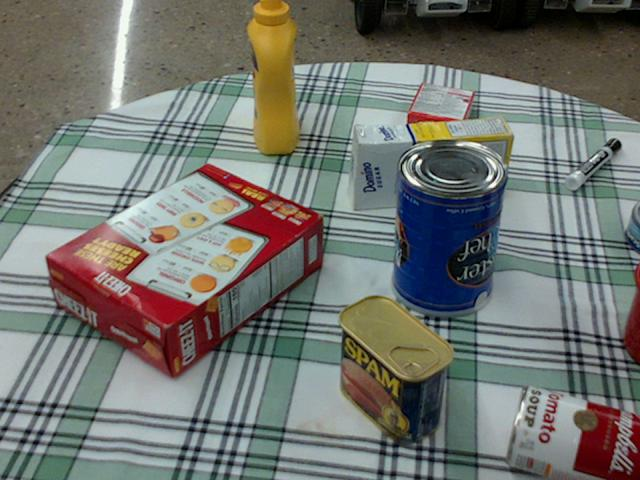cracker_box: (45, 165, 320, 376)
gelatin_box: (406, 82, 473, 139)
large_marker: (564, 138, 620, 188)
master_chef_can: (391, 138, 510, 315)
mug: (622, 261, 639, 364)
mustard_bottle: (246, 0, 298, 152)
potted_meat_can: (338, 295, 453, 442)
sugar_box: (348, 116, 513, 210)
tomato_soup_can: (507, 385, 639, 479)
tuna_fish_can: (626, 201, 639, 253)
